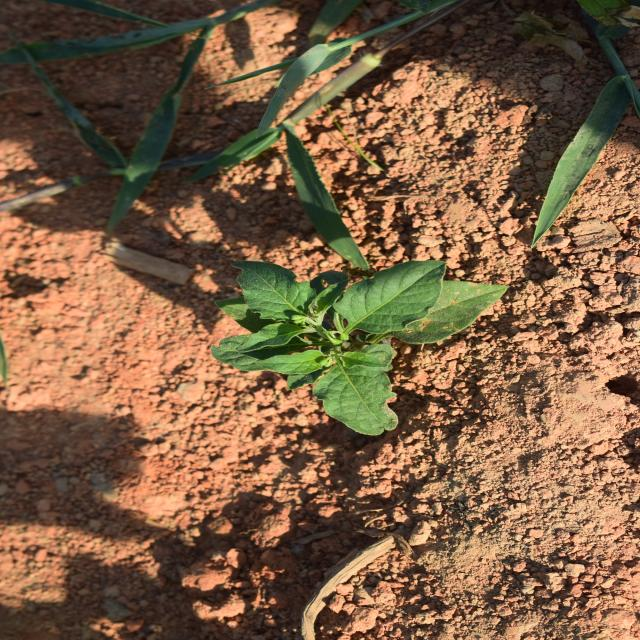Black_nightshade: (202, 177, 398, 485)
